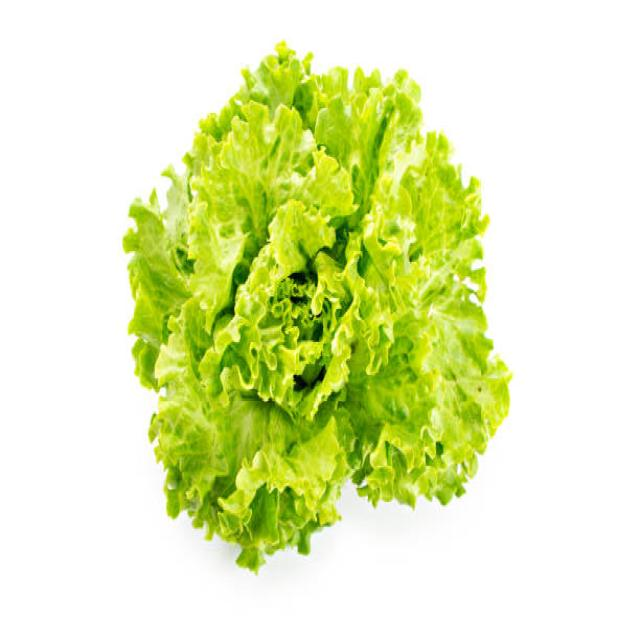Wet Waste: (124, 44, 514, 563)
